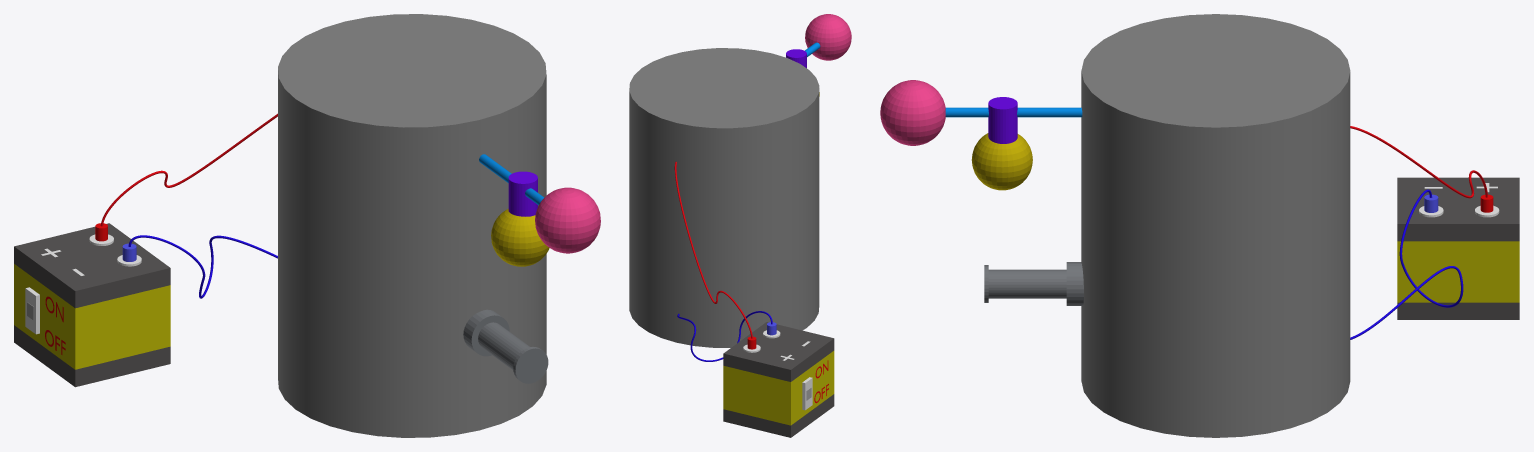
File: LAB1.fbx
3 views of the same model, side by side, from view 1: azimuth 30°, elevation 25°; view 2: azimuth 150°, elevation 25°; view 3: azimuth 270°, elevation 25° (orthographic). The views are drawn at different scales.
Parts seen in each view (by area): view 1: Cylinder, Cube, Cube.001, Sphere, Cylinder.007, Sphere.001, Cylinder.004, BézierCurve, BézierCurve.001, Cylinder.003; view 2: Cylinder, Cube, Cube.001, Sphere, BézierCurve.001, BézierCurve, Cube.002, Cylinder.004; view 3: Cylinder, Cube, Cube.001, Sphere, Cylinder.007, Sphere.001, Cylinder.004, Cylinder.003, BézierCurve, BézierCurve.001.
Part boxes in pixels (x1,y1,x2,y2): Cylinder: (278, 14, 546, 437); Cube: (14, 223, 170, 387); Cube.001: (14, 264, 170, 369); Sphere: (535, 187, 600, 253); Cylinder.007: (463, 309, 548, 383); Sphere.001: (491, 208, 549, 266); Cylinder.004: (508, 171, 537, 216); BézierCurve: (128, 235, 277, 298); BézierCurve.001: (100, 113, 277, 226); Cylinder.003: (479, 154, 544, 205); Cylinder: (629, 48, 819, 347); Cube: (723, 322, 834, 437); Cube.001: (723, 351, 834, 425); Sphere: (805, 14, 851, 60); BézierCurve.001: (674, 161, 752, 338); BézierCurve: (677, 311, 772, 361); Cube.002: (802, 377, 812, 410); Cylinder.004: (786, 49, 806, 68); Cylinder: (1081, 14, 1350, 437); Cube: (1397, 177, 1519, 319); Cube.001: (1397, 241, 1519, 302); Sphere: (880, 80, 945, 145); Cylinder.007: (984, 262, 1083, 305); Sphere.001: (971, 133, 1032, 190); Cylinder.004: (988, 97, 1017, 143); Cylinder.003: (945, 107, 1082, 117); BézierCurve: (1350, 189, 1463, 339); BézierCurve.001: (1350, 126, 1487, 198).
Size of the model in its own units: 347 by 291 by 523.
